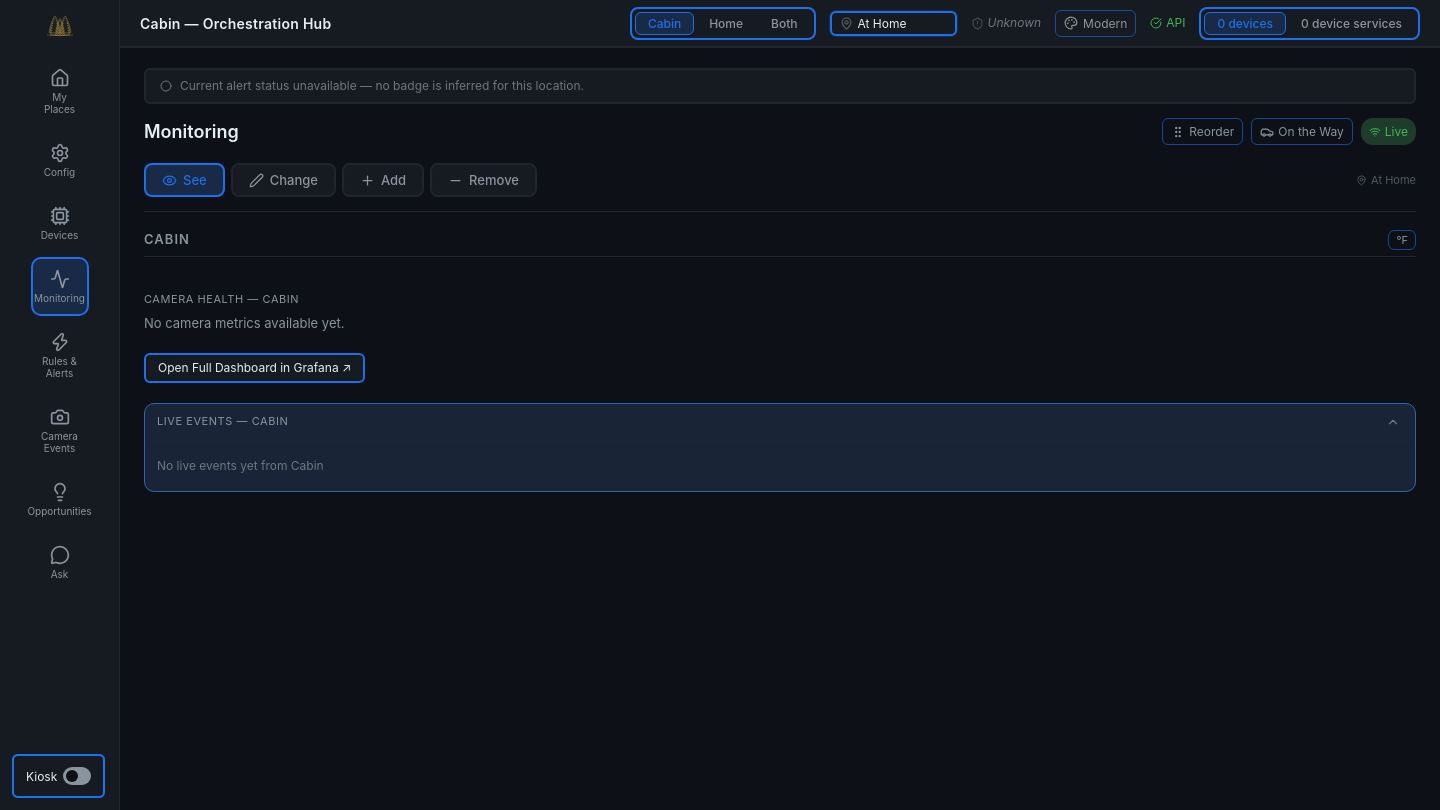
Test: Demo Access (/demo/{token}) › renders the camera placeholder with no <img> or <video>
This screenshot has width=1440, height=810.
Click the button titled "Camera Events": x=60, y=430 [30, 395, 88, 466]
(page scrolled)
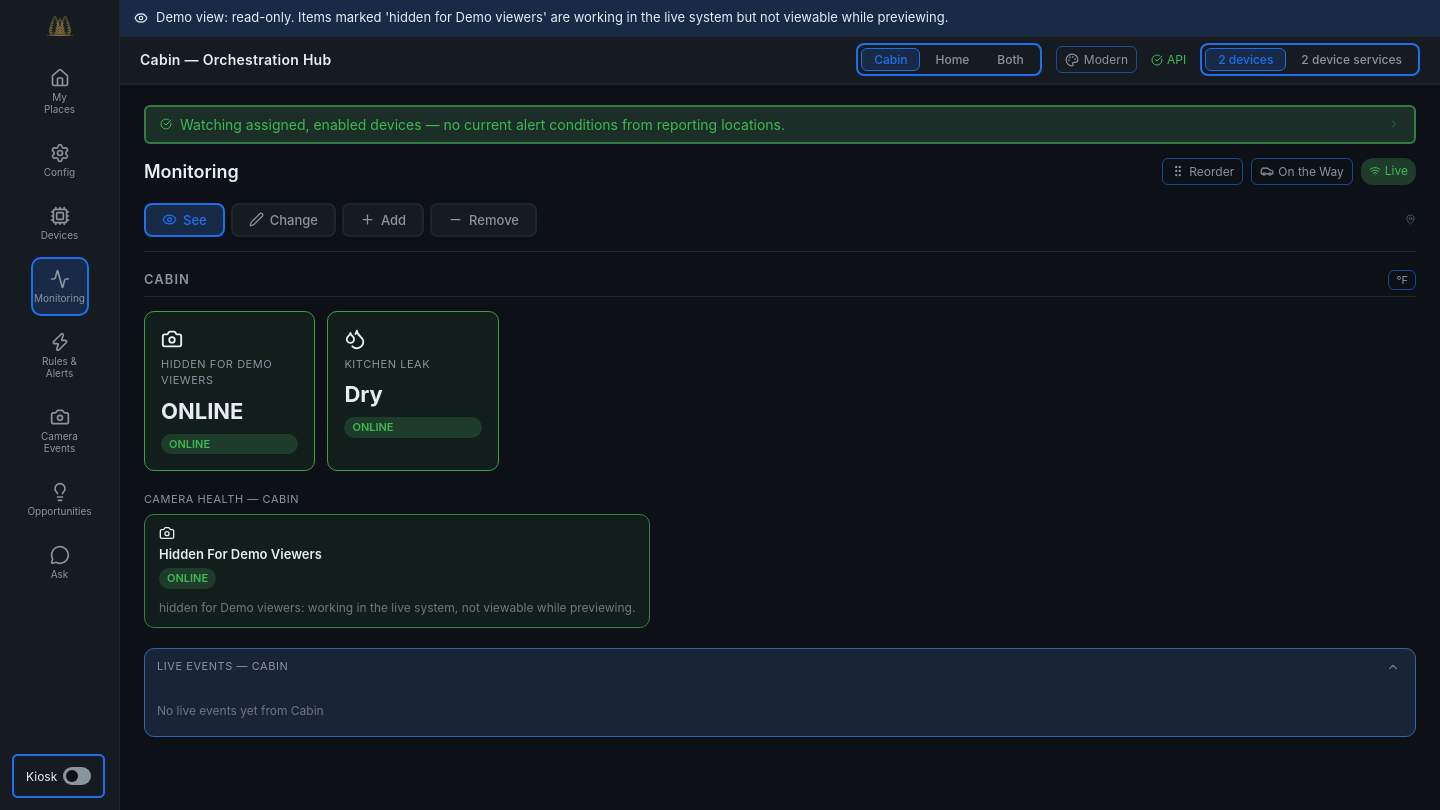
Check: the text "hidden for Demo viewers" is shown, box [161, 356, 272, 387]
Check: the text with class "state-badge" below "Camera Health — Cabin" is shown, box [159, 568, 216, 588]
Check: the text with class "state-badge" below "Camera Health — Cabin" reads "ONLINE", box [167, 571, 208, 585]
